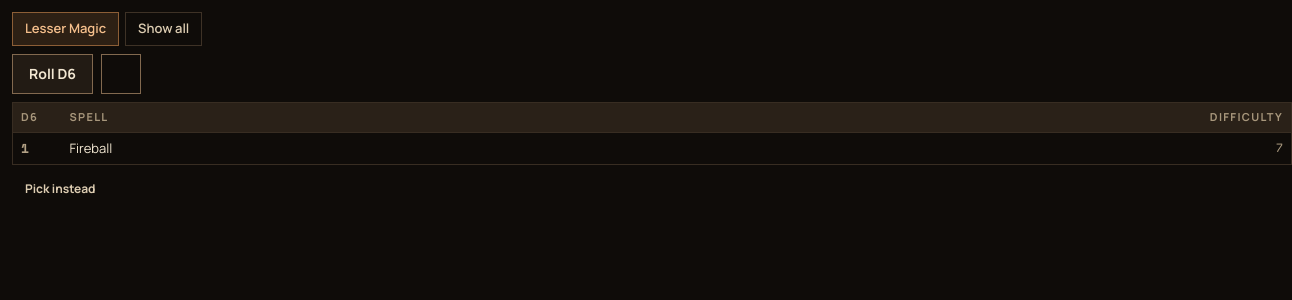
Test: Their lores first › offers the lores he casts from, and the rest greyed under Show all, still pickable
Expected: the button "Lesser Magic" is shown, x1=12 y1=12 x2=119 y2=46
Expected: the button "Necromancy (Restless Dead)" is not shown
Click the button "Show all".
click(164, 29)  # box x1=125 y1=12 x2=202 y2=46
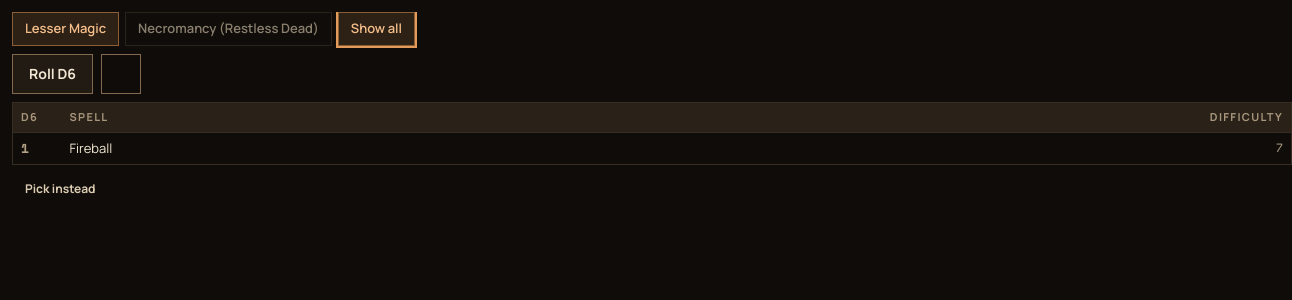
Click the button "Necromancy (Restless Dead)".
click(228, 29)  # box x1=125 y1=12 x2=332 y2=46
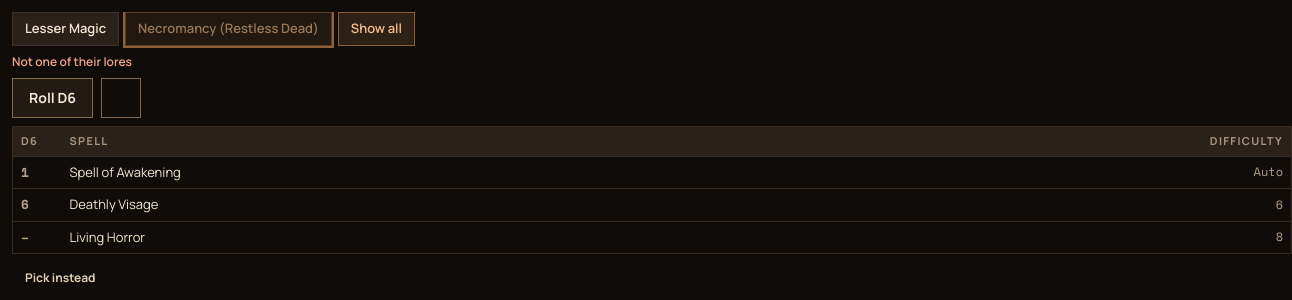
Expected: the text "Not one of their lores" is shown, x1=12 y1=53 x2=132 y2=70
